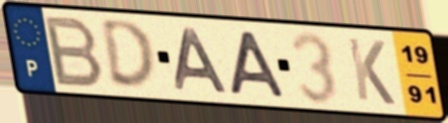3: (290, 27, 342, 109)
A: (227, 28, 290, 101), (173, 26, 232, 96)
B: (43, 14, 107, 89)
D: (97, 18, 159, 94)
K: (344, 35, 398, 108)
